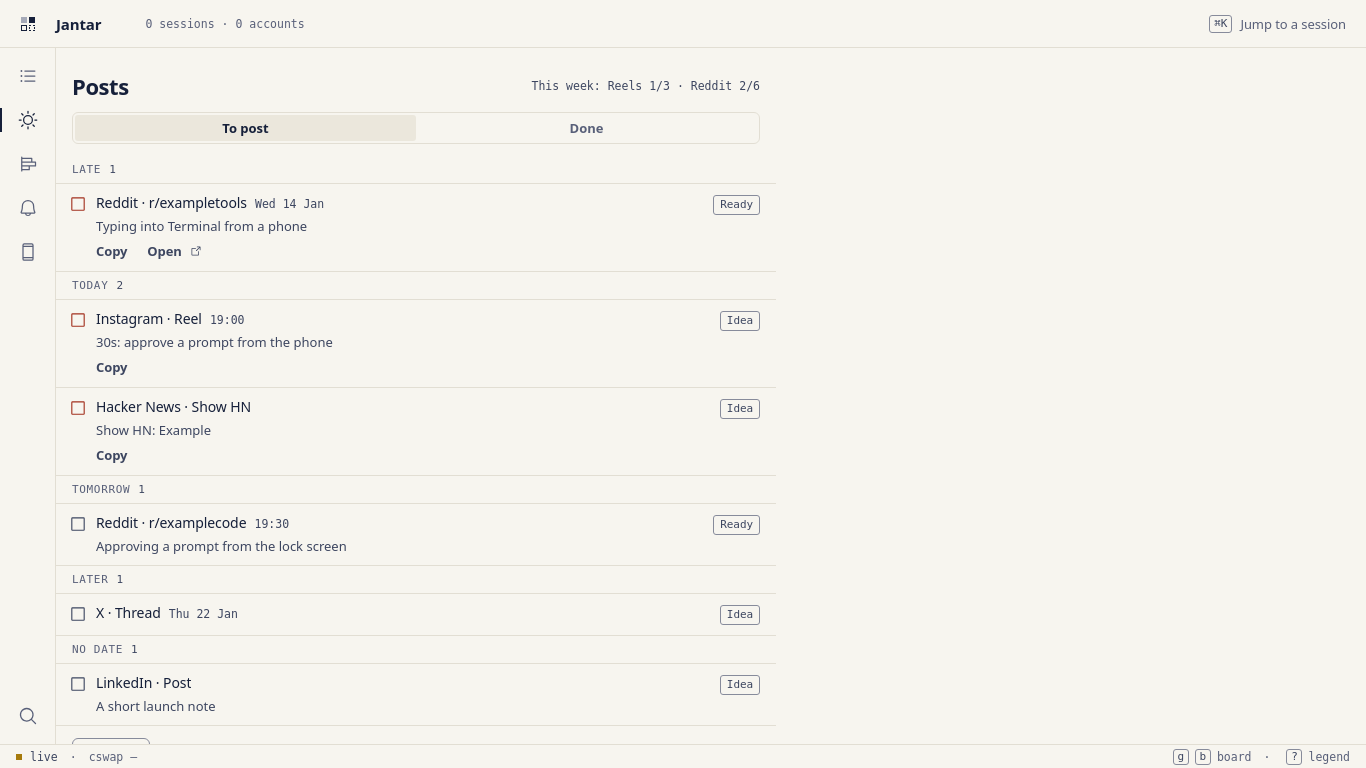
Posts: the list › switches to Done through the route: posted with when and the posted link, or skipped
Check: the element "Late" is shown, box [56,156,776,272]
Click the button "Done".
click(586, 128)  # box [416,115,757,141]
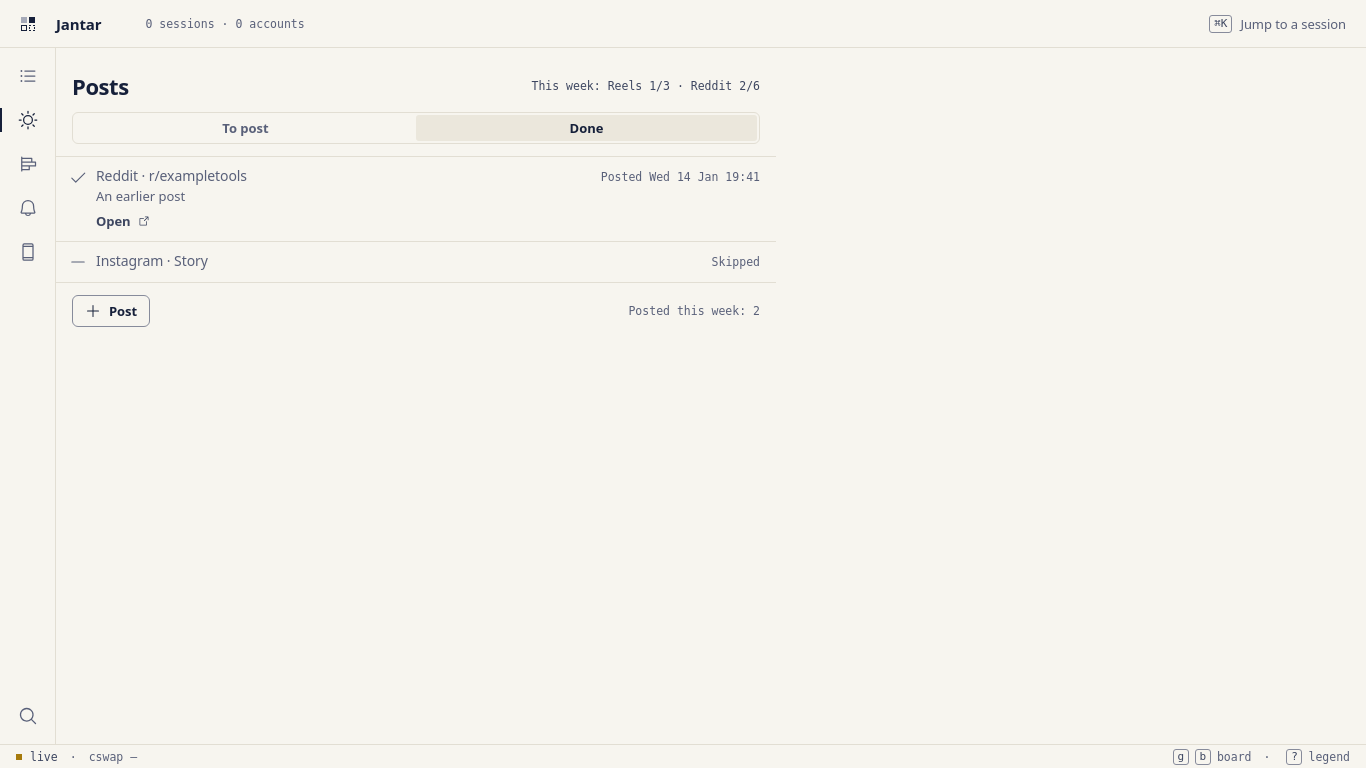
Check: the list item that starts with "Reddit · r/exampletools" shows "Posted Wed 14 Jan 19:41", box [96,163,768,209]
Check: the list item "Instagram · Story Skipped" is shown, box [56,242,776,283]
